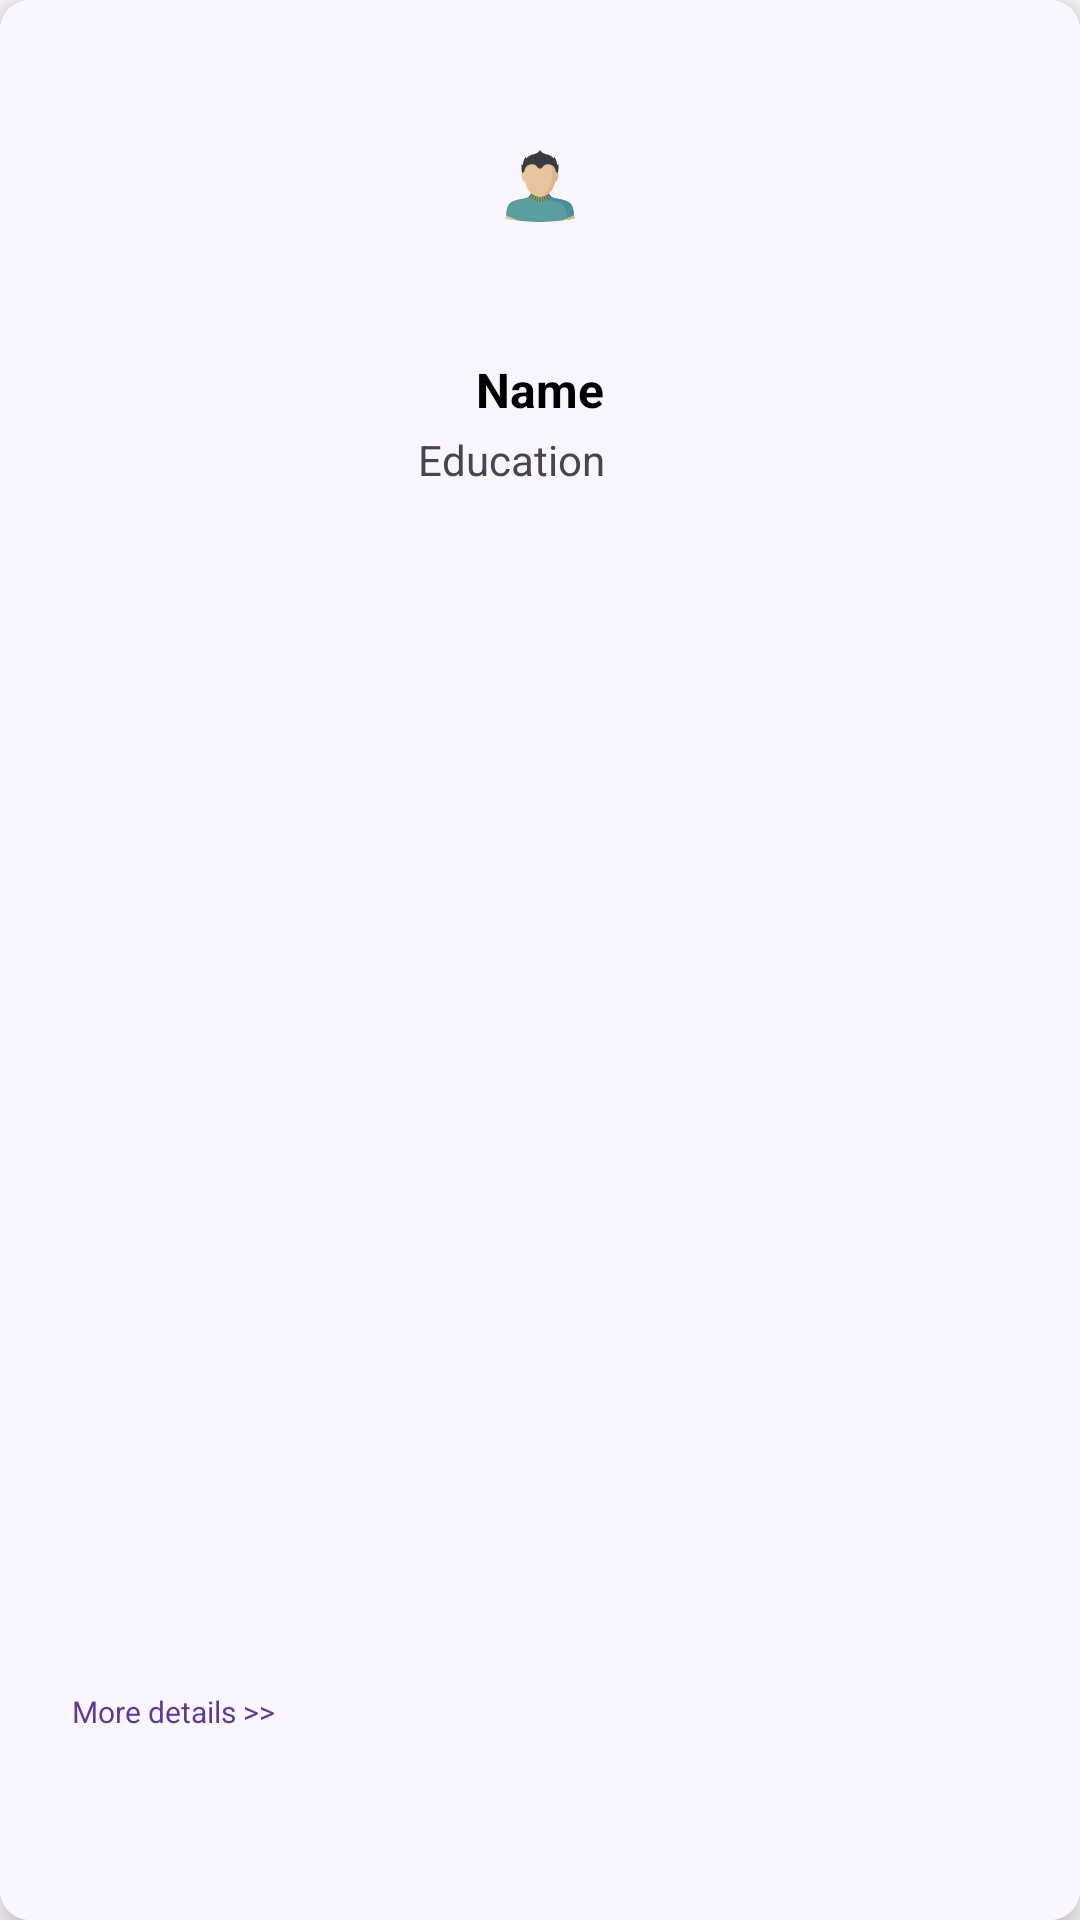

Named icons in this screenshot (1080x1920) and their bounding boxes, (x1, y1, x2, y2):
person: (505, 150, 575, 222)
